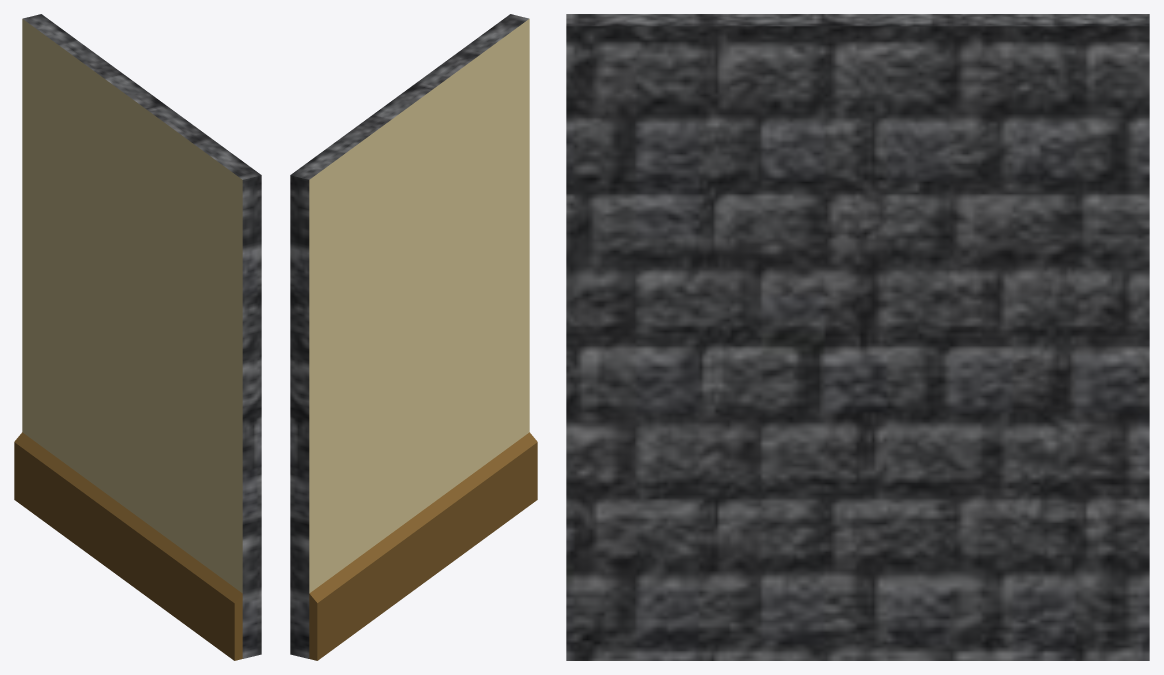
The model's file is kit_Wall_stone.glb.
The picture shows the model from 3 angles, left to right: view 1: azimuth 30°, elevation 25°; view 2: azimuth 150°, elevation 25°; view 3: azimuth 270°, elevation 25°; orthographic projection. The views are drawn at different scales.
Visible parts, largest first — view 1: wall; view 2: wall; view 3: wall.
Part boxes in pixels (x1,y1,x2,y2): wall: [14, 14, 261, 660]; wall: [290, 14, 537, 660]; wall: [566, 14, 1149, 660].
Bounding box in the file's own units: 0.1431 × 2.4 × 2.
3 materials, 1 textured.
